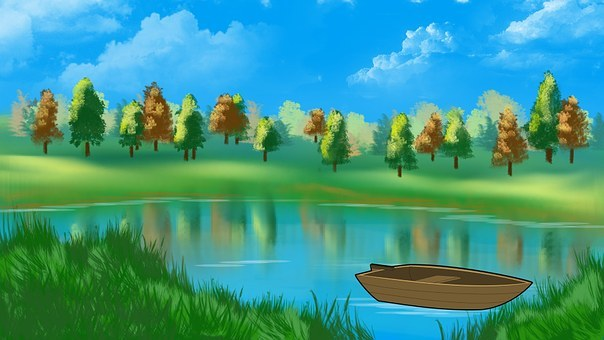boat: (353, 248, 536, 319)
